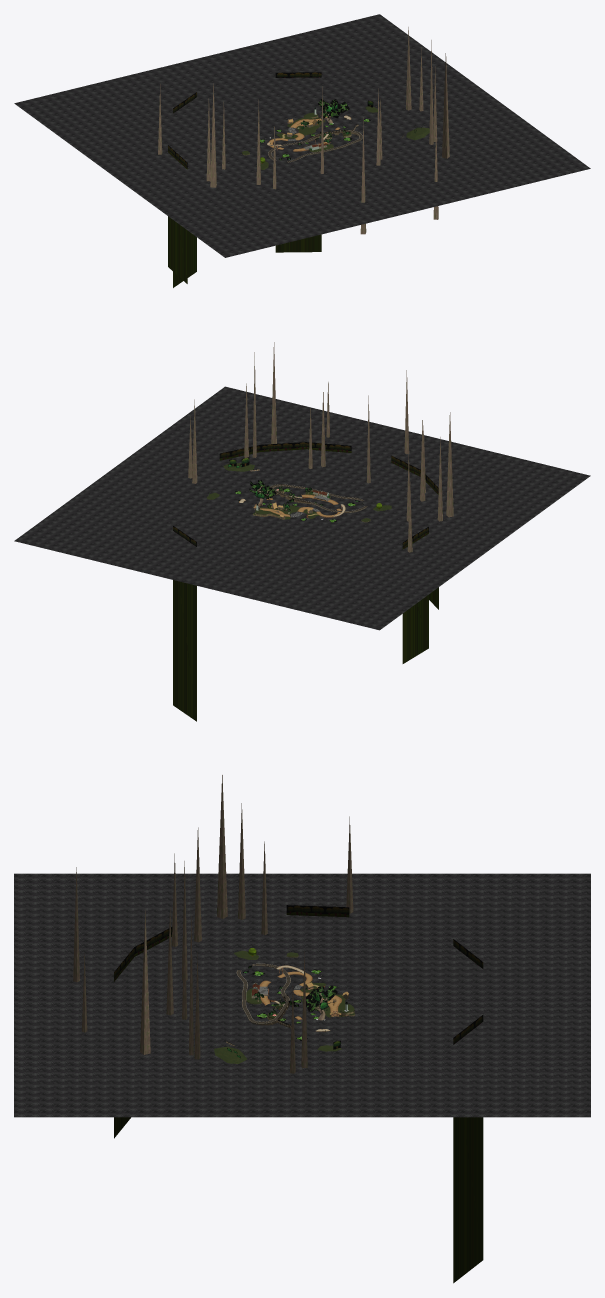
3 renders of one model, top to bottom at view 1: azimuth 30°, elevation 25°; view 2: azimuth 150°, elevation 25°; view 3: azimuth 270°, elevation 25°, orthographic. The views are drawn at different scales.
Visible parts, largest first — view 1: water.011, mossybark, treeline, grass.012, leaves; view 2: water.011, treeline, mossybark, grass.012; view 3: water.011, mossybark, treeline, grass.012.
Part boxes in pixels (x1,y1,x2,y2): water.011: (14,14,590,257); mossybark: (158,27,449,234); treeline: (168,72,321,287); grass.012: (242,106,429,169); leaves: (279,99,349,160); water.011: (14,386,590,630); treeline: (173,442,438,721); mossybark: (188,342,453,552); grass.012: (207,463,391,521); water.011: (14,873,590,1117); mossybark: (73,775,353,1073); treeline: (114,905,483,1283); grass.012: (214,950,354,1063).
Bounding box in the file's own units: 344846 × 253756 × 344846.
Materials: 54 (54 with a texture image).
